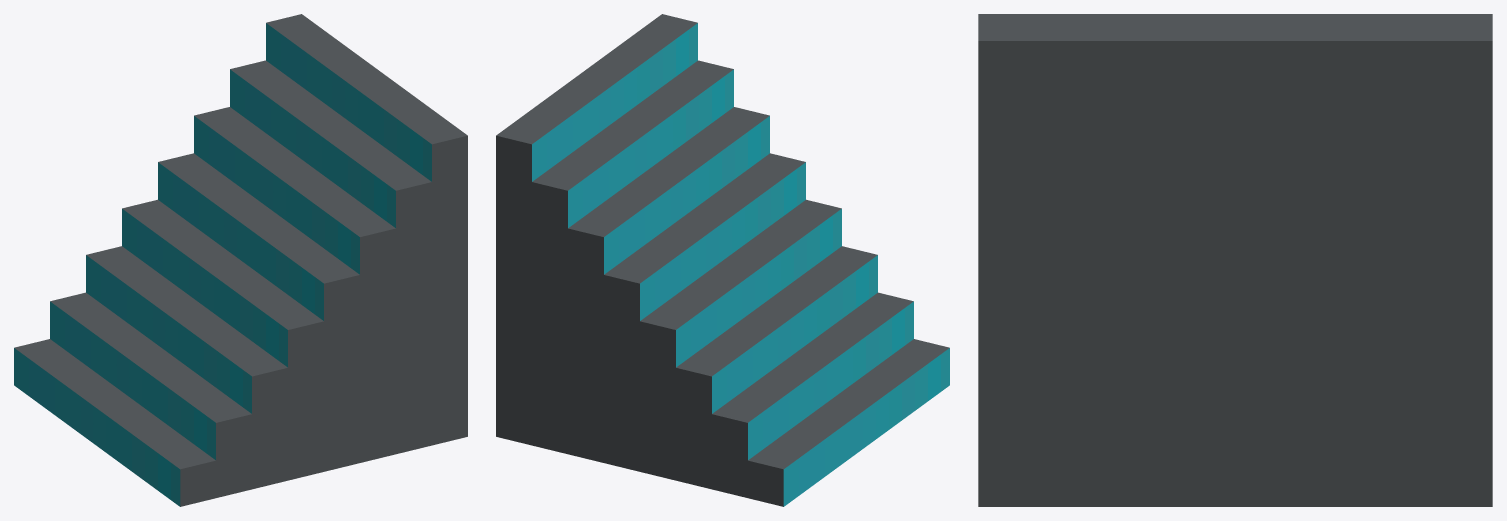
The model's file is EspacioContenidoEscaleraExteriorNI.gltf.
The picture shows the model from 3 angles, left to right: view 1: azimuth 30°, elevation 25°; view 2: azimuth 150°, elevation 25°; view 3: azimuth 270°, elevation 25°; orthographic projection. The views are drawn at different scales.
Visible parts, largest first — view 1: Escalera; view 2: Escalera; view 3: Escalera.
Boxes of the visible parts, x1=… form: Escalera: x1=14, y1=14, x2=467, y2=506; Escalera: x1=496, y1=14, x2=949, y2=506; Escalera: x1=978, y1=14, x2=1492, y2=506.
Size of the model in its own units: 2 by 2 by 2.
1 material, 1 textured.
